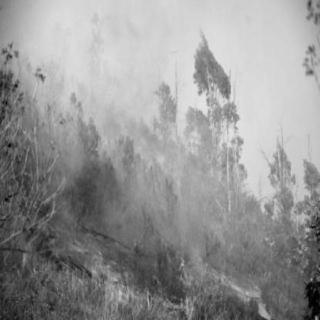Fire: (214, 260, 270, 316)
